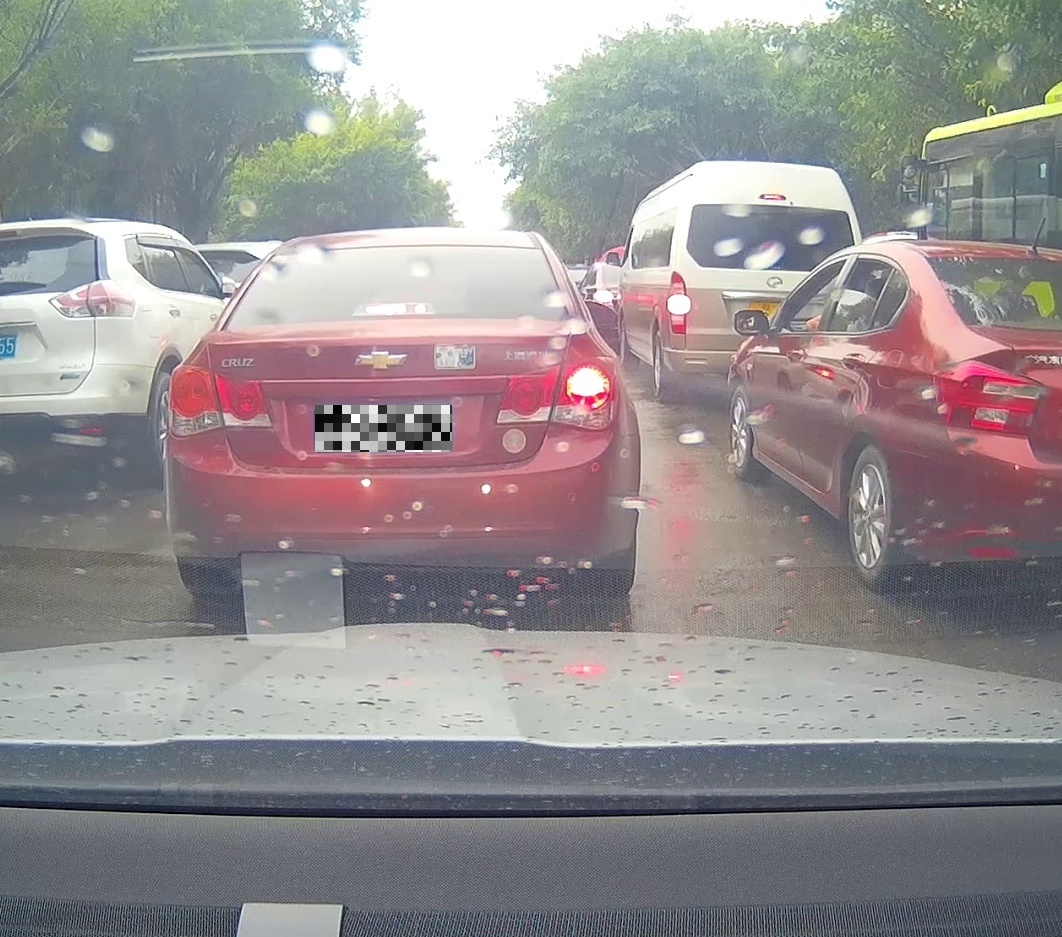L_light: (167, 365, 272, 436)
R_light: (495, 356, 619, 432)
T_light: (356, 302, 430, 316)
day-right: (166, 229, 640, 596)
plate_1: (315, 405, 452, 452)
